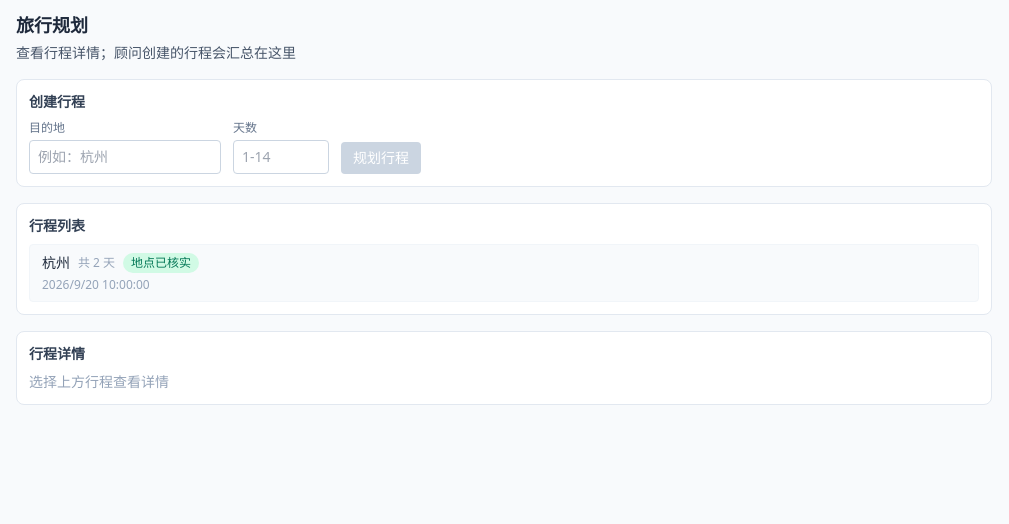
Test: TripsPage › opens a trip detail through the shared timeline card
Click the text "杭州": (56, 263) x1=42 y1=253 x2=70 y2=273
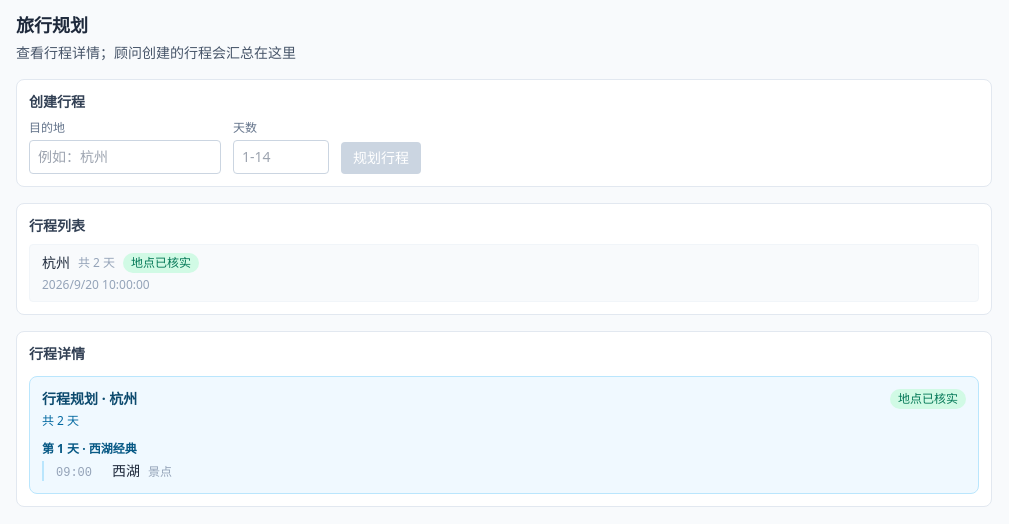
Result: the heading "行程规划 · 杭州" is shown at x1=42 y1=389 x2=137 y2=409
Result: the text "西湖" is shown at x1=112 y1=461 x2=140 y2=481
